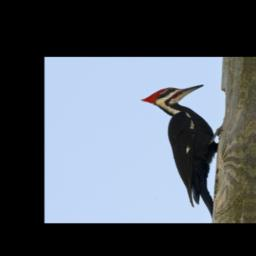Woodpecker: (131, 81, 224, 208)
